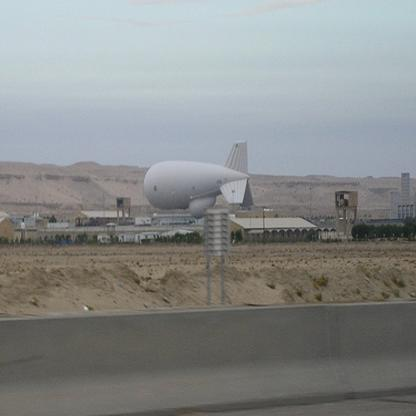Airship: (138, 137, 264, 222)
